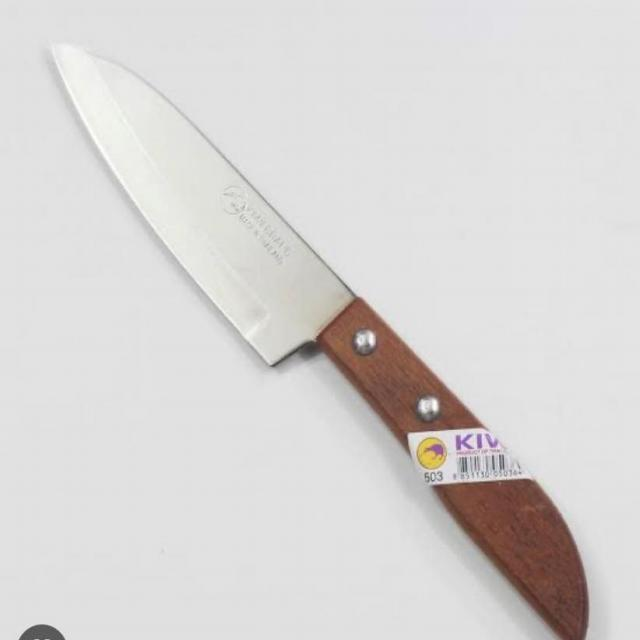Knife: (43, 39, 592, 640)
